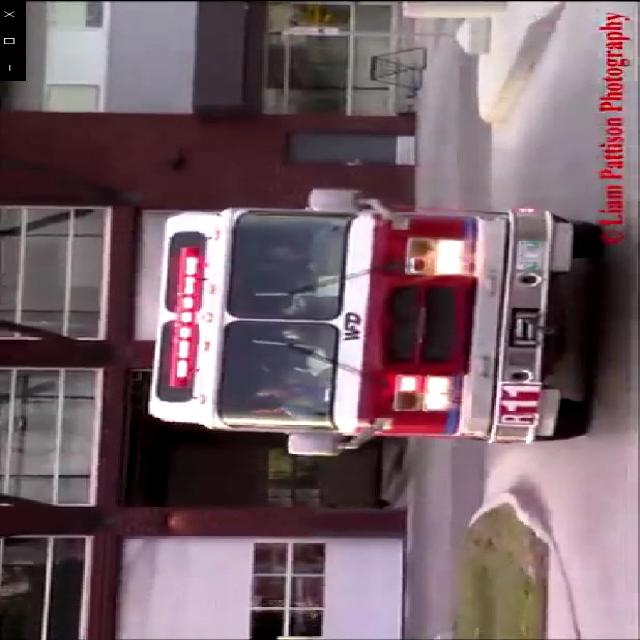emergency: (137, 184, 607, 461)
